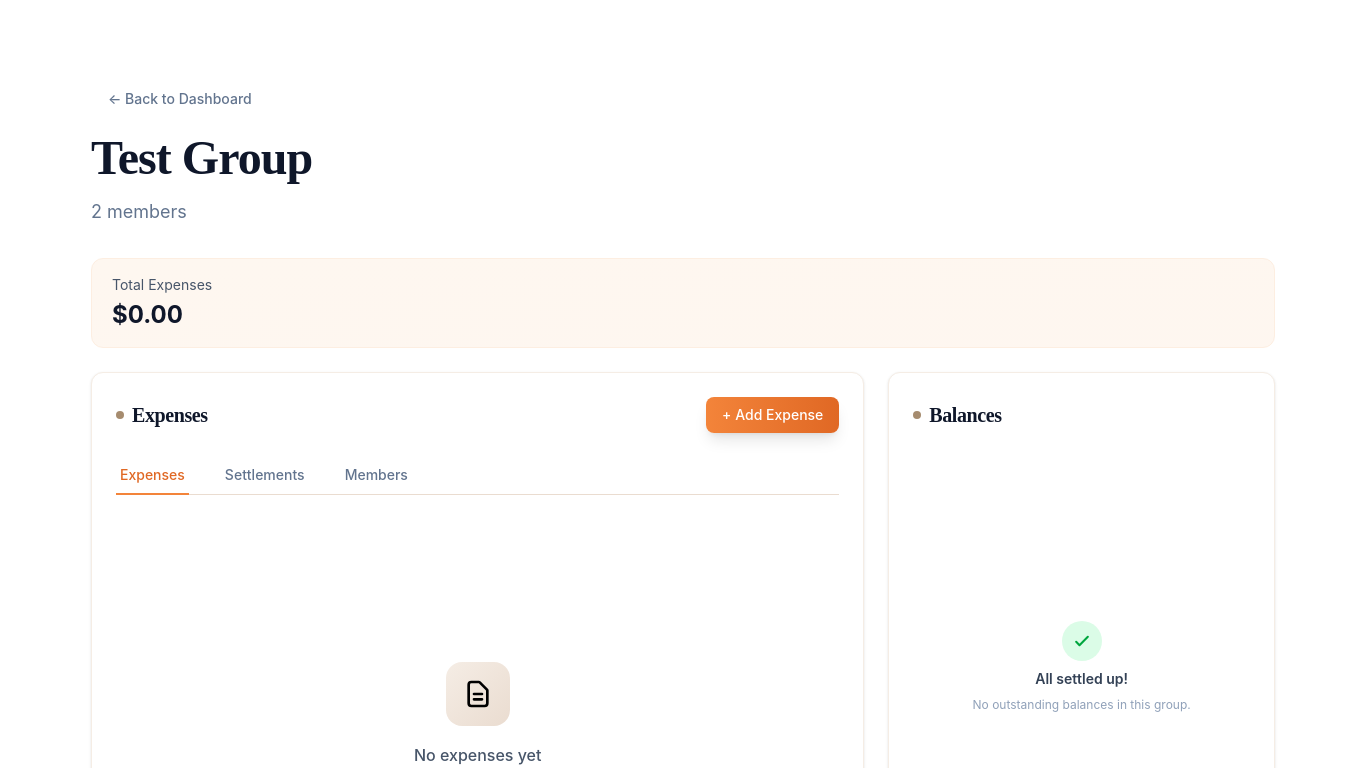
Test: GroupDetailPage › Admin Expense Edit/Delete › does not show 'Paid by' selector for non-admins
What coordinates should you click on to do the following:
click the button "+ Add Expense"
I would click on:
 (773, 415)
Its box is 706,397 -> 839,433.
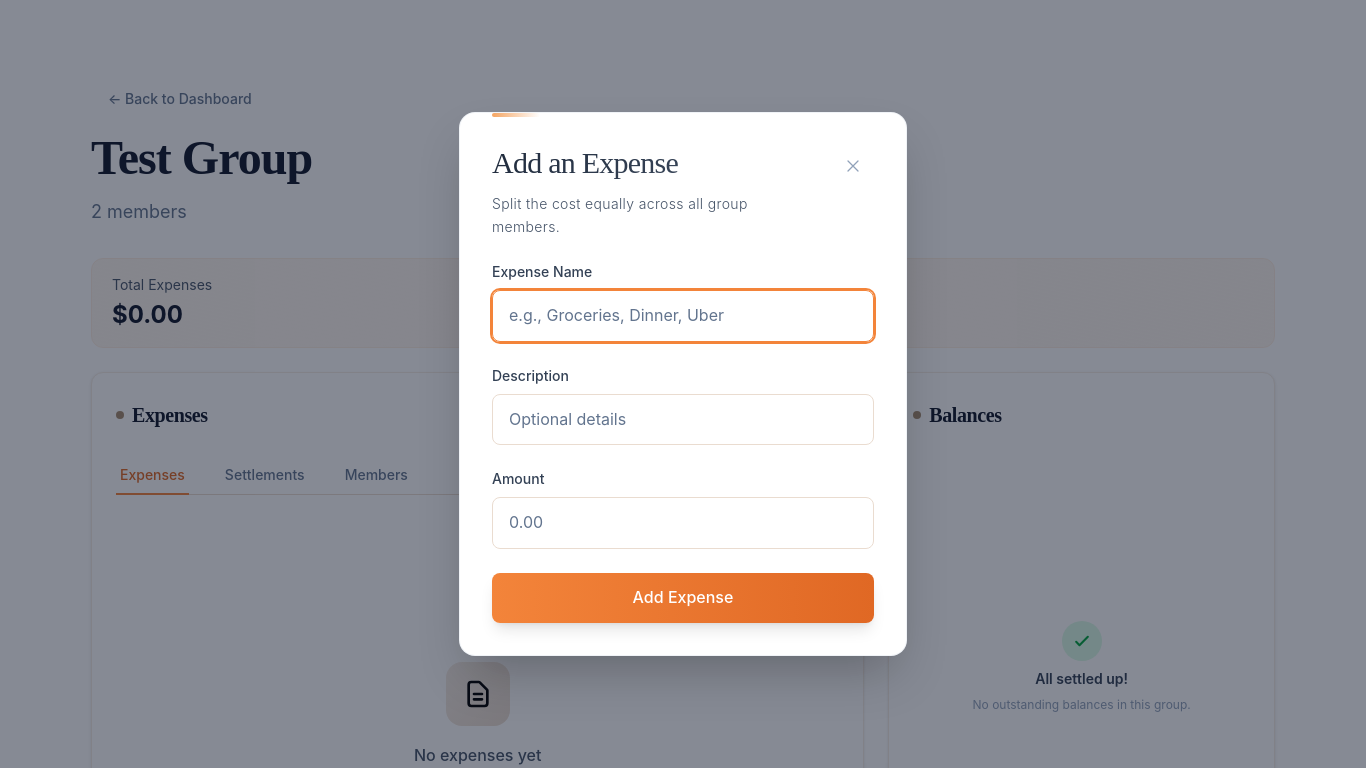
Check: the dialog is shown
